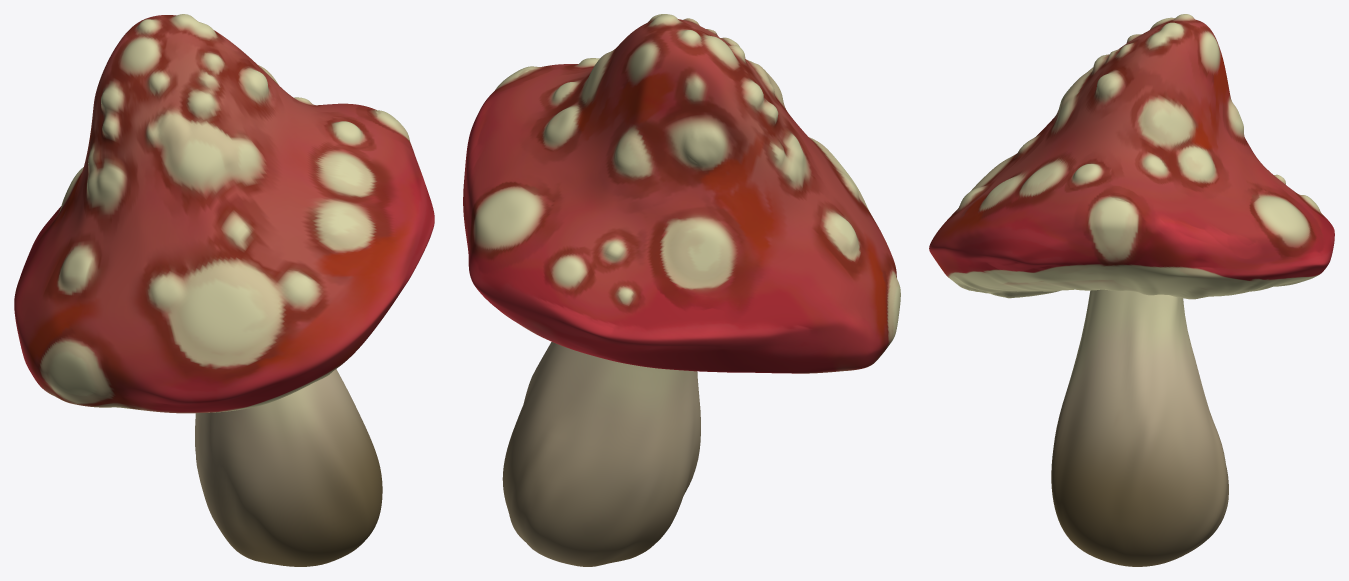
The model's file is Mushroom.fbx.
3 views of the same model, side by side, from view 1: azimuth 30°, elevation 25°; view 2: azimuth 150°, elevation 25°; view 3: azimuth 270°, elevation 25° (orthographic). The views are drawn at different scales.
Visible parts, largest first — view 1: Mushroom; view 2: Mushroom; view 3: Mushroom.
Boxes of the visible parts, x1,y1,x2,y2 form: Mushroom: [14, 14, 434, 566]; Mushroom: [463, 14, 900, 566]; Mushroom: [929, 14, 1334, 566].
Bounding box in the file's own units: 0.6193 × 0.8841 × 0.6558.
